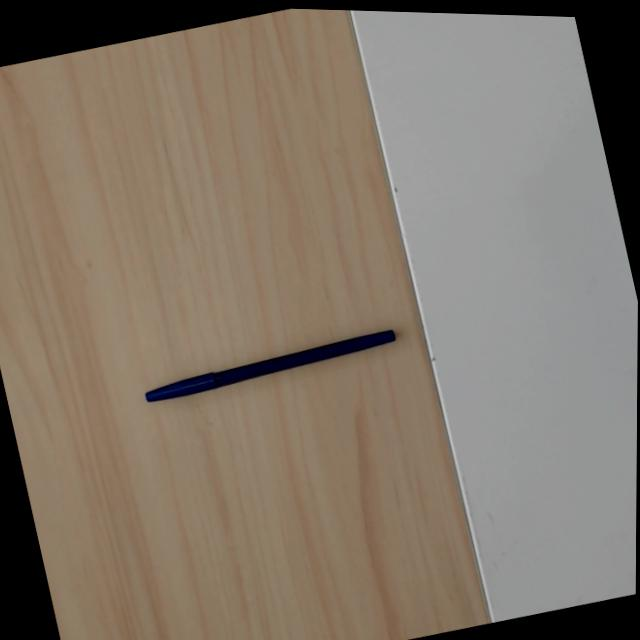Pulpen-Biru: (144, 322, 396, 406)
